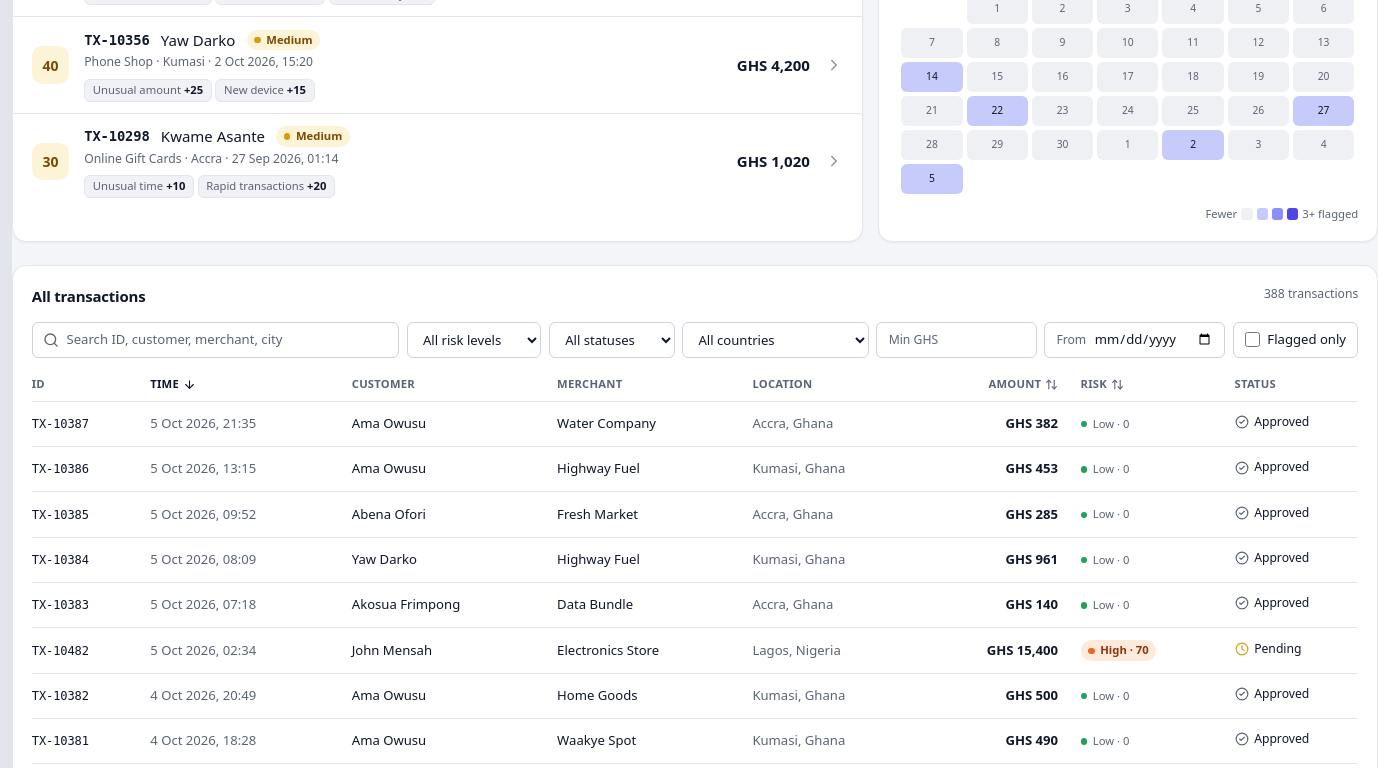
Test: Dashboard › sorts by risk when the header is clicked, toggling direction
(page scrolled)
Click the button "Risk": (1102, 385) [1080,376,1124,393]
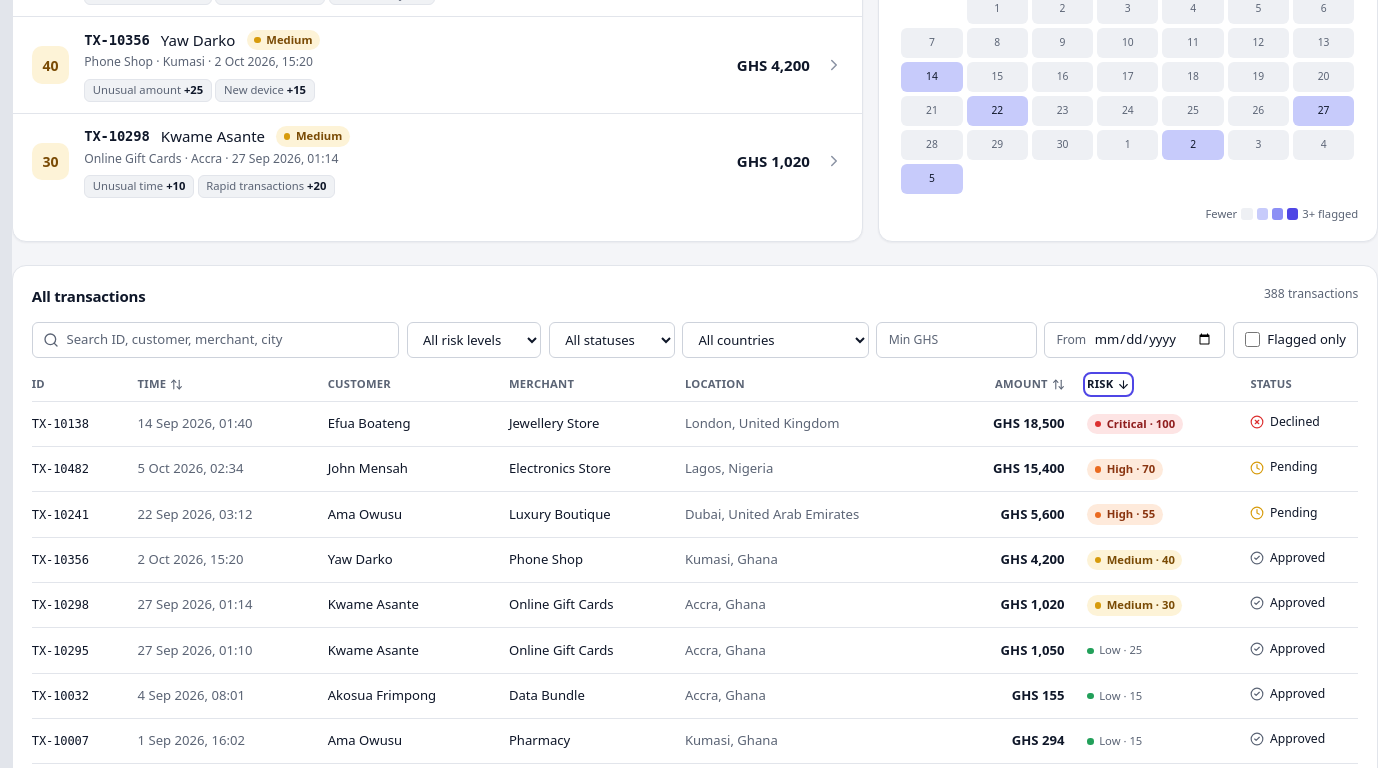
Result: the column heading "Risk" has attribute aria-sort="descending" at [1076,369,1239,401]
Click the button "Risk": (1109, 385) [1087,376,1130,393]
(page scrolled)
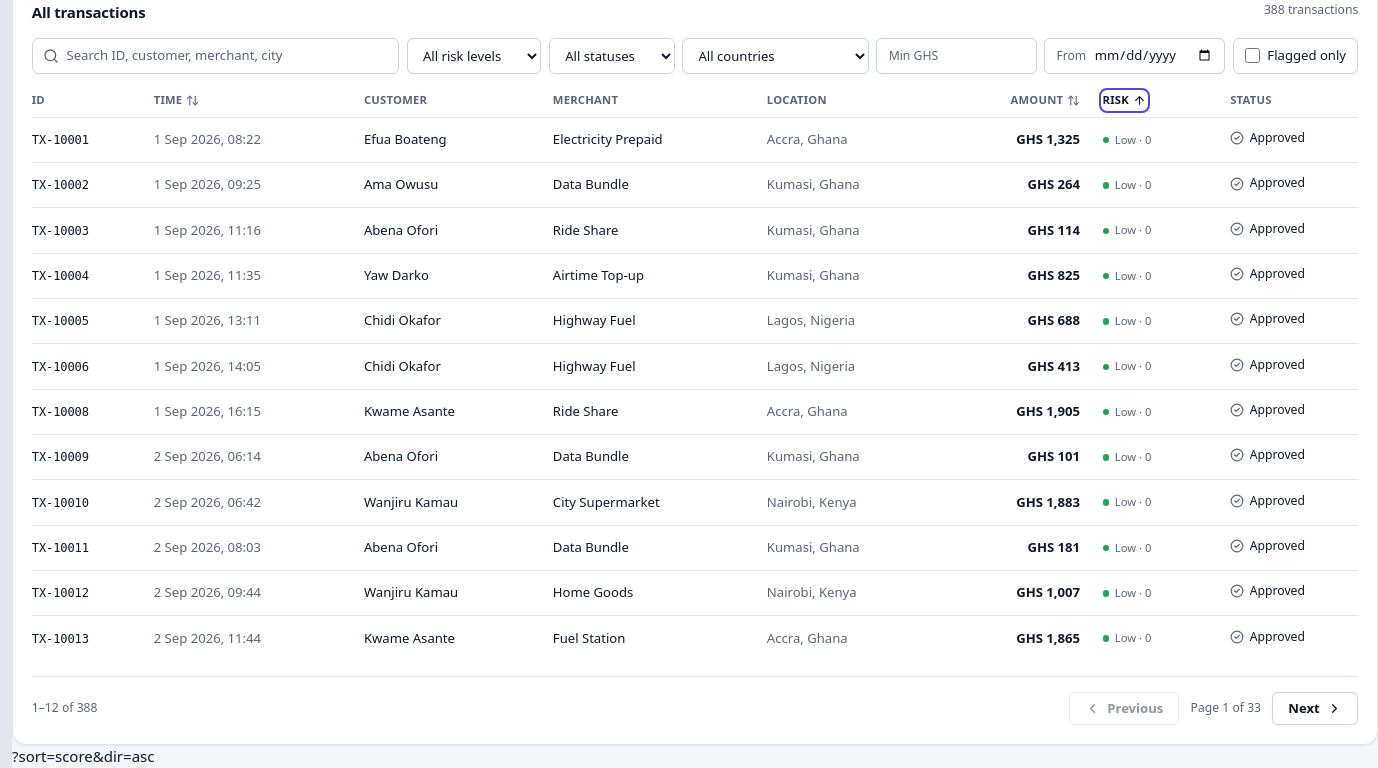
Result: the text with test id "location" reads "?sort=score&dir=asc" at [12,746,154,766]
